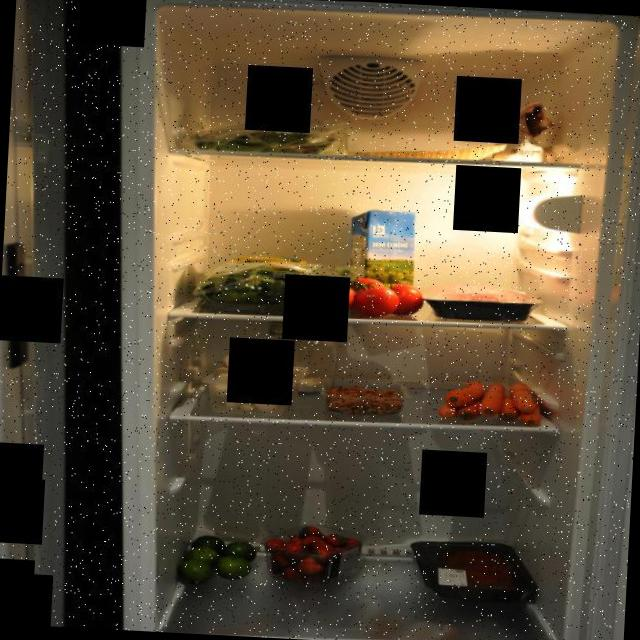Carne vacuno: (405, 537, 541, 608)
Champiñones: (204, 345, 310, 418)
Gambas/Langostinos: (322, 383, 402, 418)
Leche: (348, 207, 423, 303)
Tomate: (302, 272, 426, 322)
Zanahoria: (434, 376, 548, 432)
